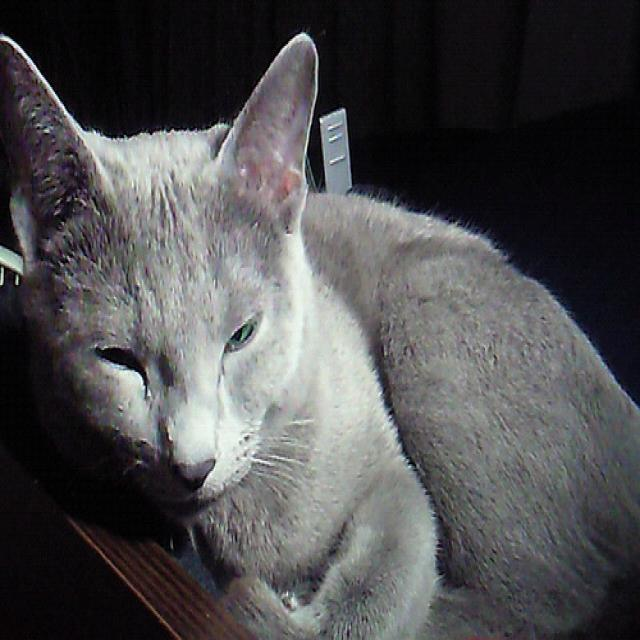Russian_Blue: (0, 29, 319, 519)
